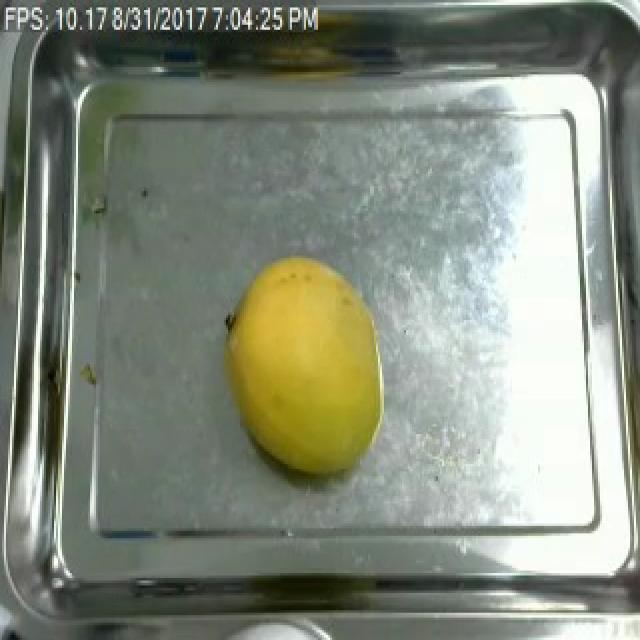fruit: (210, 246, 396, 491)
